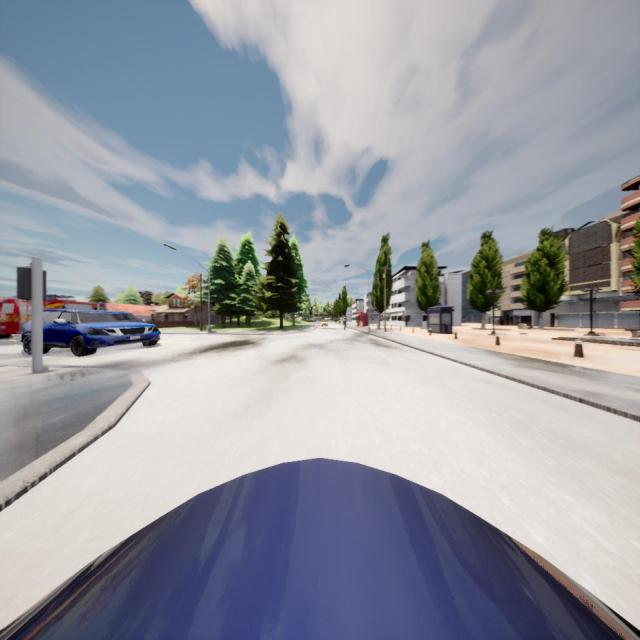Pedestrian: (344, 315, 346, 330)
Vehicle: (1, 459, 640, 640), (22, 310, 160, 355), (0, 299, 103, 339), (322, 319, 328, 326)
